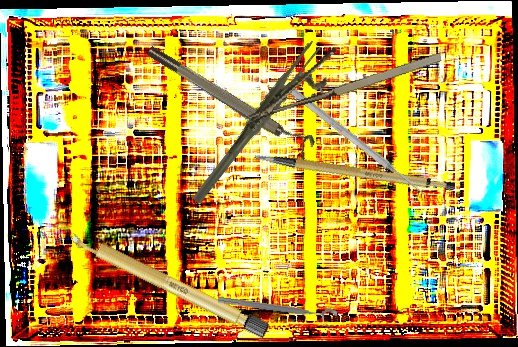Fixation Ring: (144, 36, 318, 161), (216, 292, 338, 330)
Needle Holder: (233, 20, 444, 125)
Pusher: (285, 84, 428, 199)
Scalpel Handle: (66, 226, 271, 340), (253, 121, 457, 219)
Tissue Forceps: (166, 37, 346, 207)
